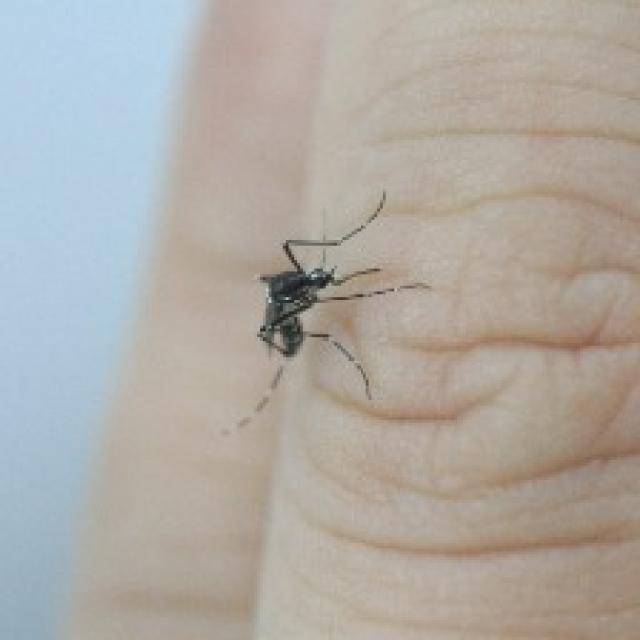aedes: (217, 186, 432, 437)
